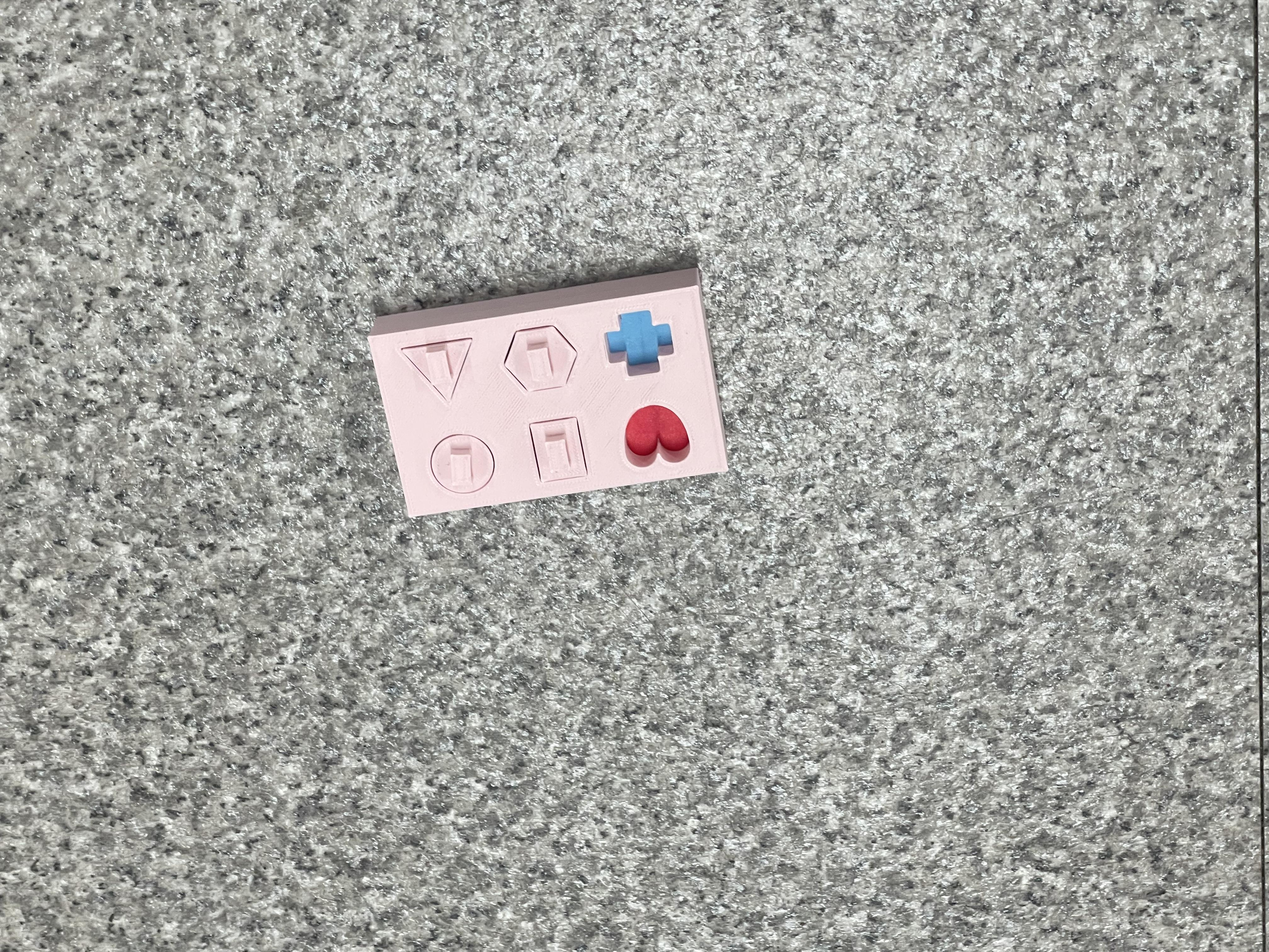unsolved: (356, 255, 744, 524)
